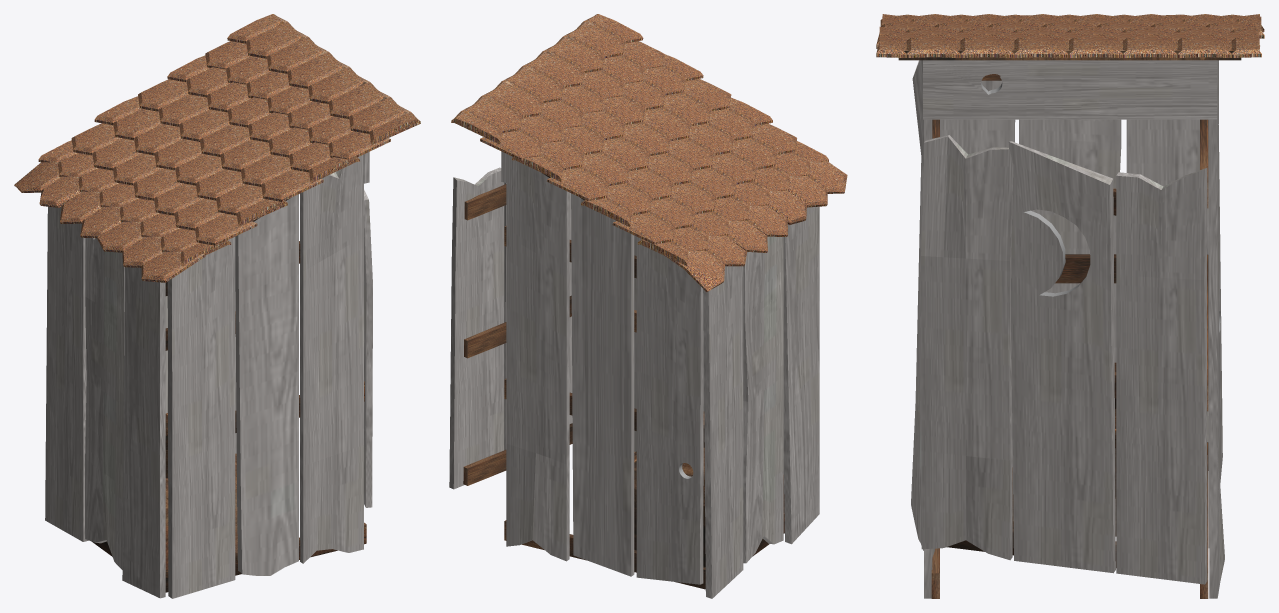
File: Outhouse.fbx
3 views of the same model, side by side, from view 1: azimuth 30°, elevation 25°; view 2: azimuth 150°, elevation 25°; view 3: azimuth 270°, elevation 25° (orthographic). The views are drawn at different scales.
Visible parts, largest first — view 1: polySurface72; view 2: polySurface72; view 3: polySurface72.
Part boxes in pixels (x1,y1,x2,y2): polySurface72: (14, 14, 420, 598); polySurface72: (449, 14, 847, 598); polySurface72: (876, 14, 1264, 598).
Bounding box in the file's own units: 5.92 × 8.54 × 5.21.
4 materials, 3 textured.
